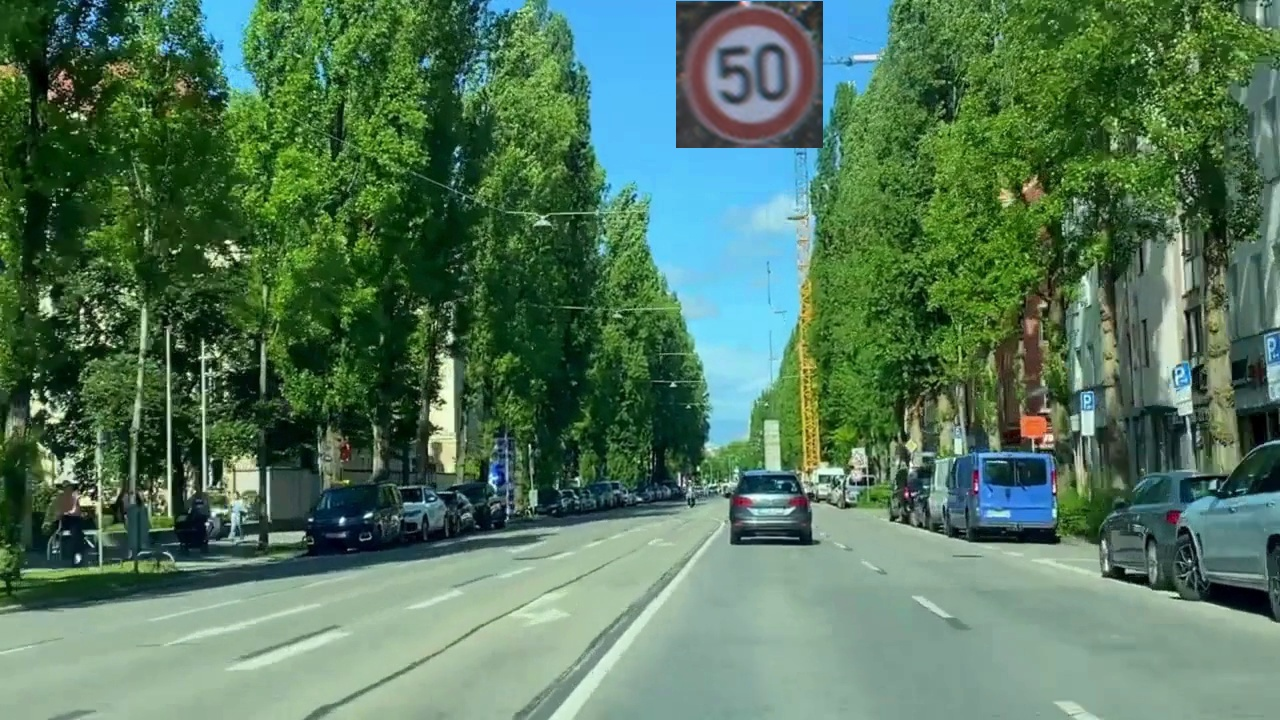Speed 50: (676, 1, 823, 148)
